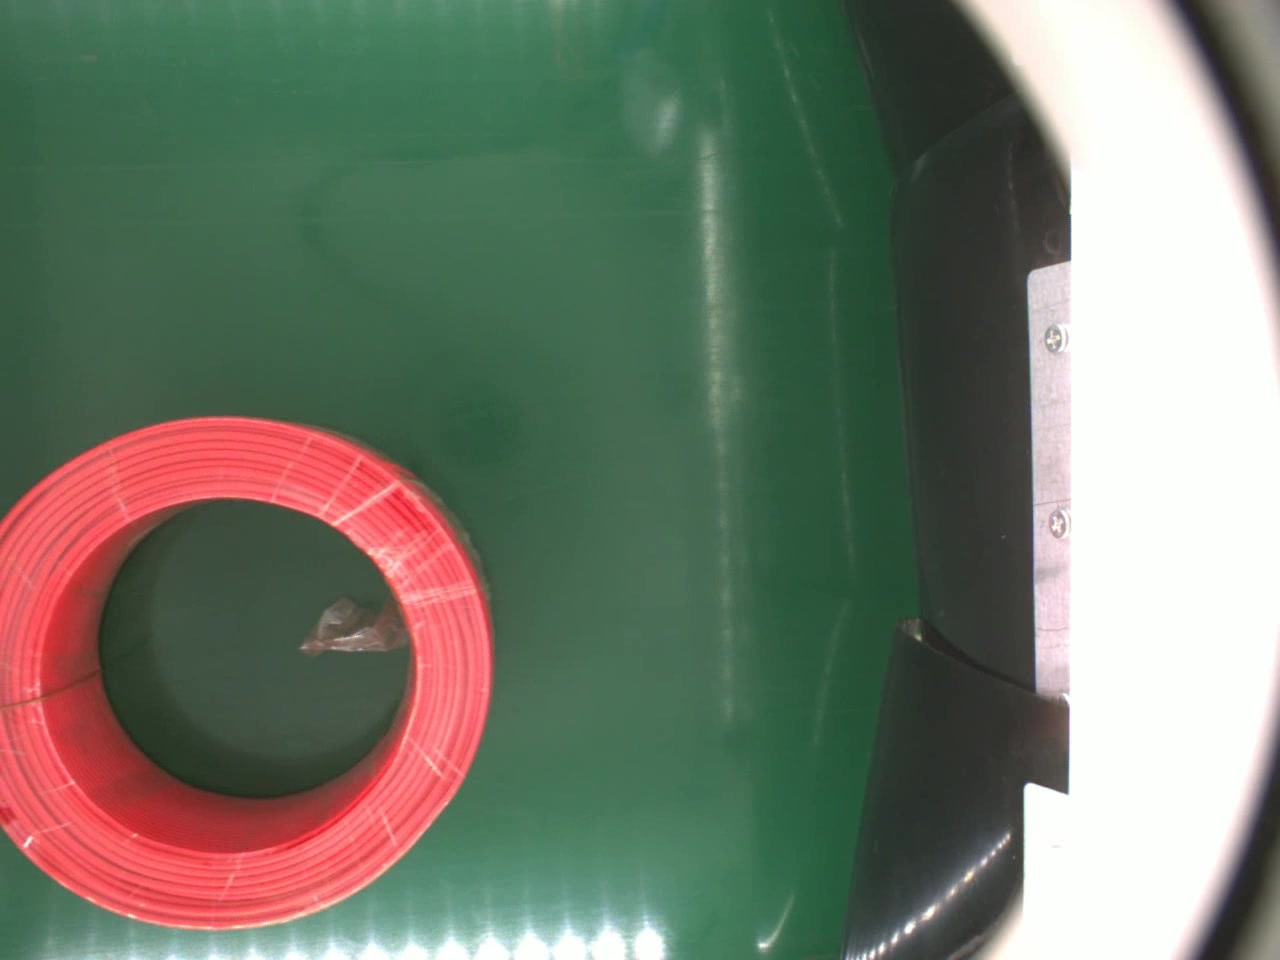red: (0, 409, 498, 933)
